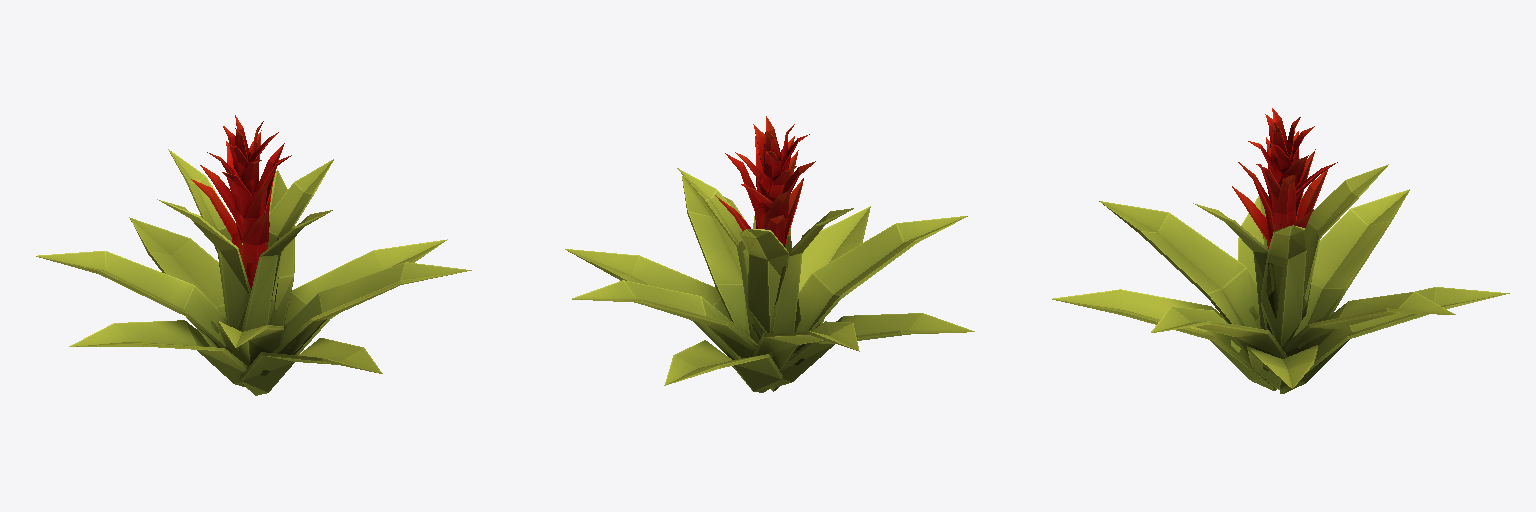
3 views of the same model, side by side, from view 1: azimuth 30°, elevation 25°; view 2: azimuth 150°, elevation 25°; view 3: azimuth 270°, elevation 25° (orthographic).
Visible parts, largest first — view 1: Bromeliads_mesh; view 2: Bromeliads_mesh; view 3: Bromeliads_mesh.
Boxes of the visible parts, x1=… form: Bromeliads_mesh: x1=36, y1=115, x2=471, y2=395; Bromeliads_mesh: x1=565, y1=116, x2=974, y2=392; Bromeliads_mesh: x1=1052, y1=108, x2=1509, y2=393.
Size of the model in its own units: 6.83 by 4.5 by 6.86.
Materials: 1 (1 with a texture image).